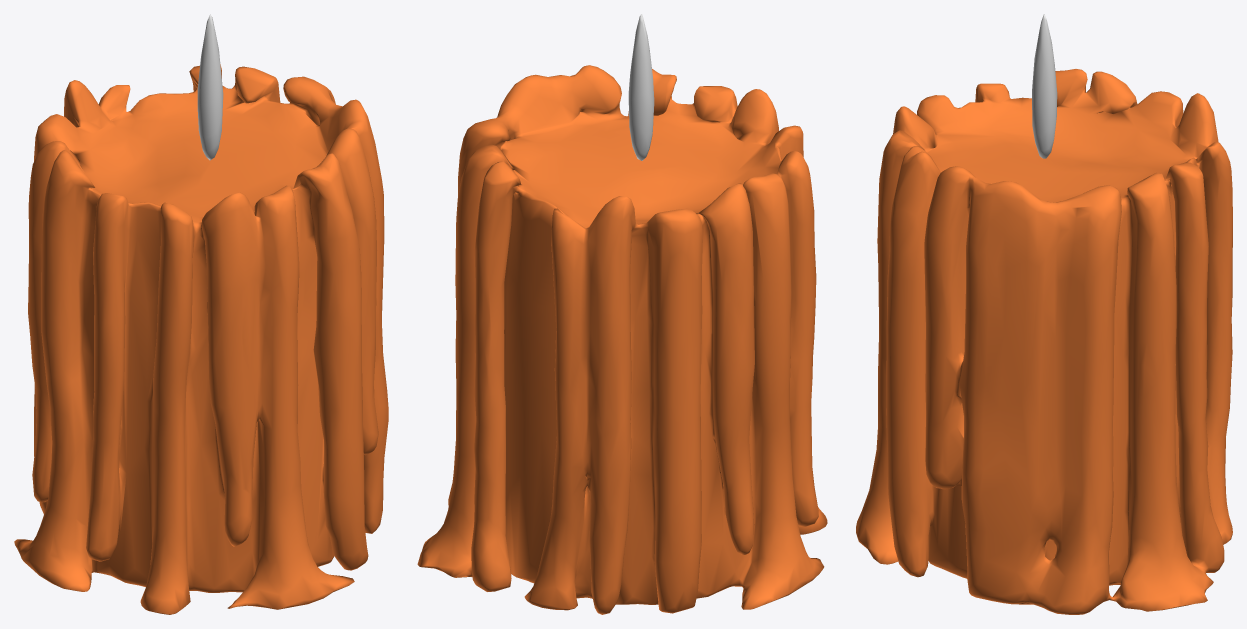
File: Свеча.fbx
3 views of the same model, side by side, from view 1: azimuth 30°, elevation 25°; view 2: azimuth 150°, elevation 25°; view 3: azimuth 270°, elevation 25° (orthographic).
Parts seen in each view (by area): view 1: Candle; view 2: Candle; view 3: Candle.
Boxes of the visible parts, left/top/right/bottom form: Candle: left=14, top=14, right=388, bottom=614; Candle: left=417, top=14, right=827, bottom=614; Candle: left=856, top=14, right=1232, bottom=614.
Bounding box in the file's own units: 13.46 × 19.73 × 12.88.
